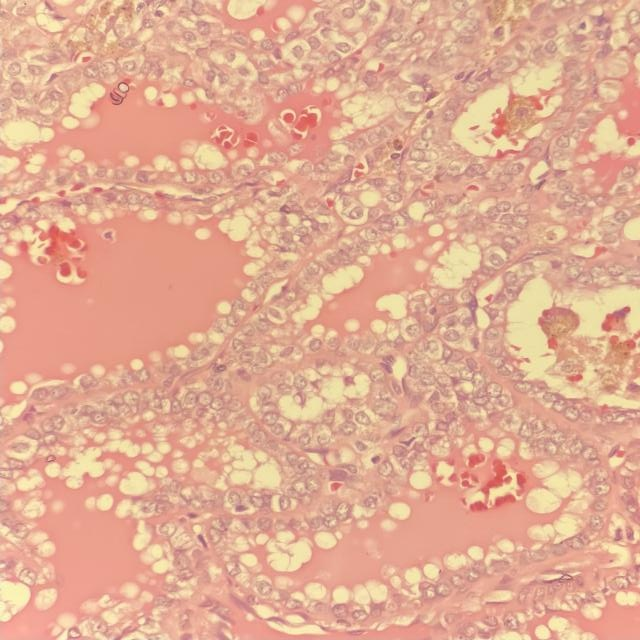TC: (398, 310, 426, 346), (375, 184, 409, 212), (478, 244, 510, 273), (371, 394, 401, 420), (437, 322, 464, 350), (416, 120, 444, 147), (343, 201, 370, 228), (402, 148, 432, 171), (309, 422, 336, 446), (366, 364, 392, 388), (331, 501, 355, 527), (341, 331, 362, 360), (286, 457, 312, 480), (276, 285, 304, 306), (254, 410, 283, 430), (406, 420, 431, 443), (276, 338, 297, 365), (481, 382, 506, 404), (373, 456, 399, 477), (358, 494, 385, 514), (490, 193, 512, 217), (457, 81, 486, 99), (351, 405, 371, 431), (507, 157, 530, 179), (304, 330, 327, 352), (375, 215, 400, 235), (305, 256, 324, 279), (290, 223, 315, 240), (291, 375, 312, 393)
